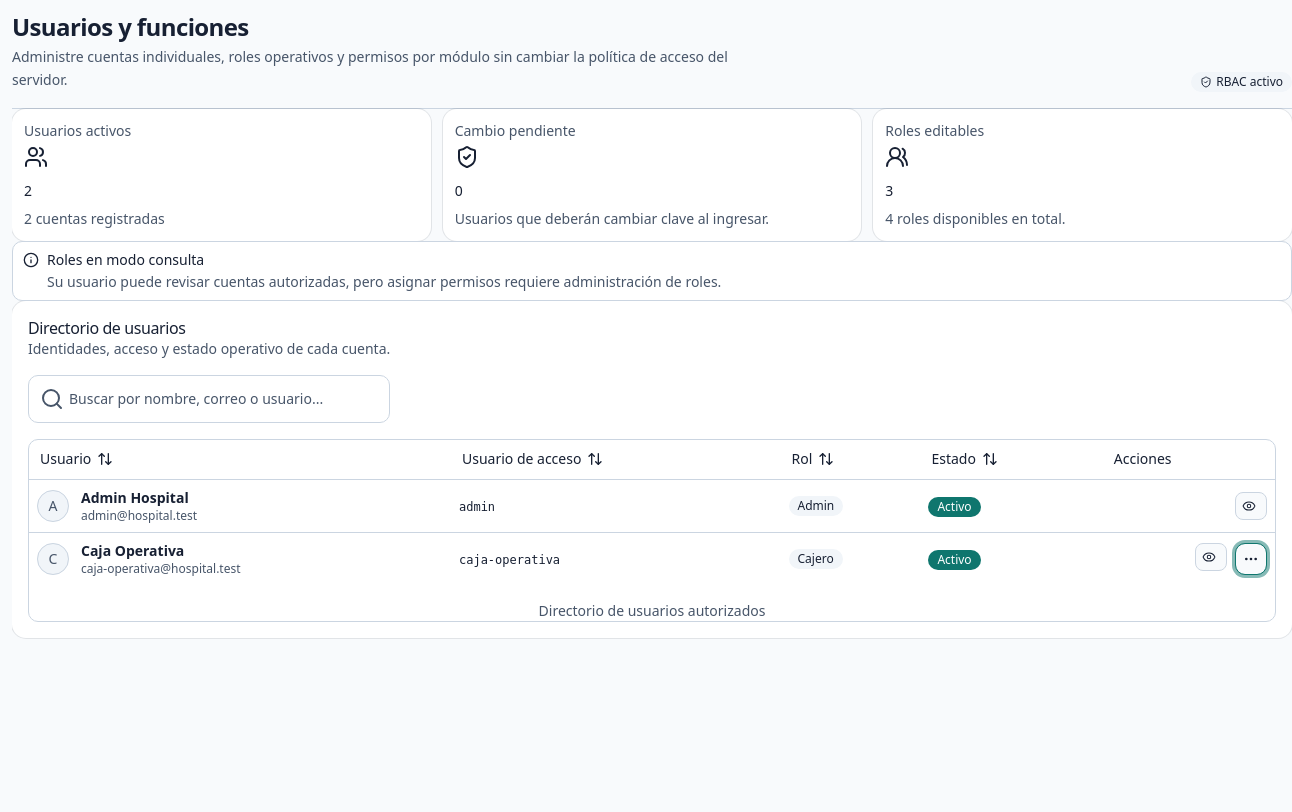
Test: UsersView › does not expose protected user actions without admin assignment permission
Expected: the text "Admin Hospital" is shown, [81,488,197,508]
Click the button named "Acciones de usuario Caja Operativa" at (1251, 559), box [1235,543,1267,575]
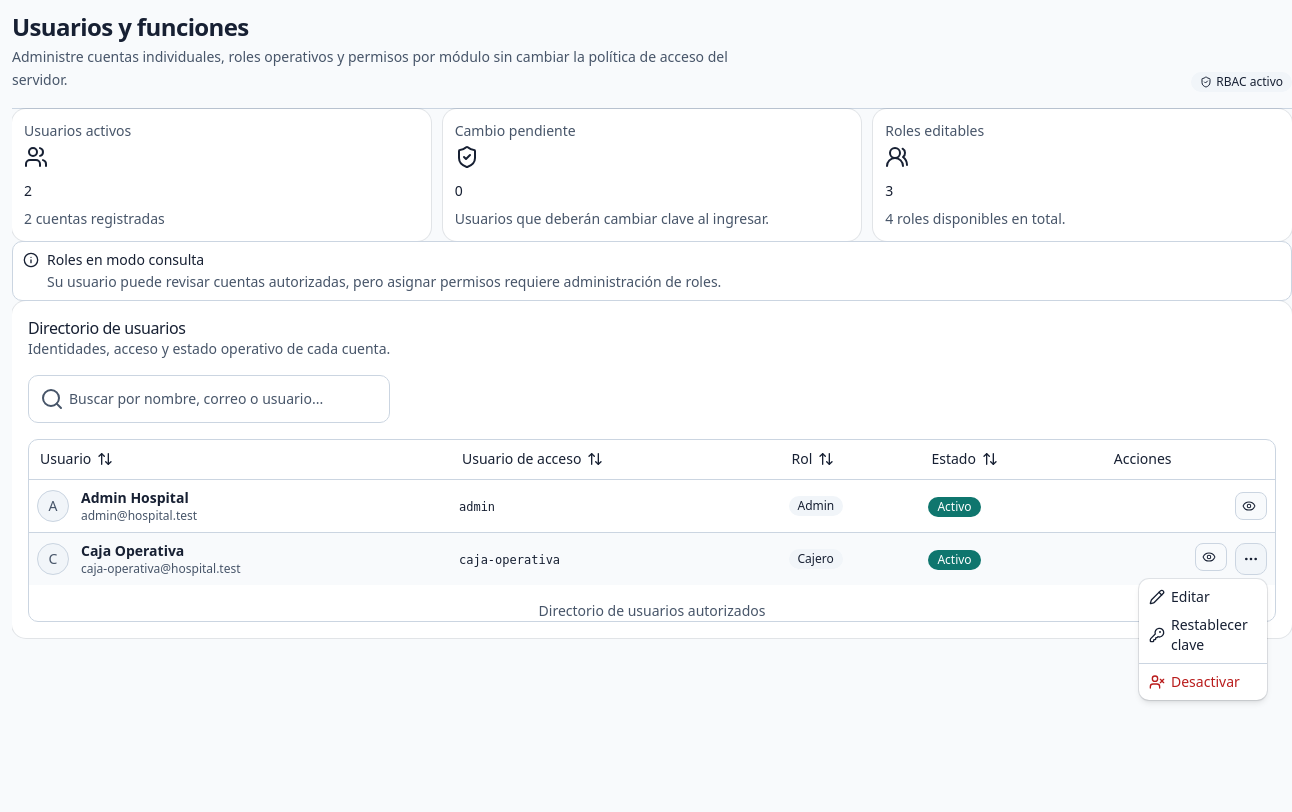
Expected: the menu item "Editar" is shown, [1149,587,1210,606]
Expected: the menu item "Restablecer clave" is shown, [1149,615,1248,654]
Expected: the menu item "Desactivar" is shown, [1149,672,1240,691]
